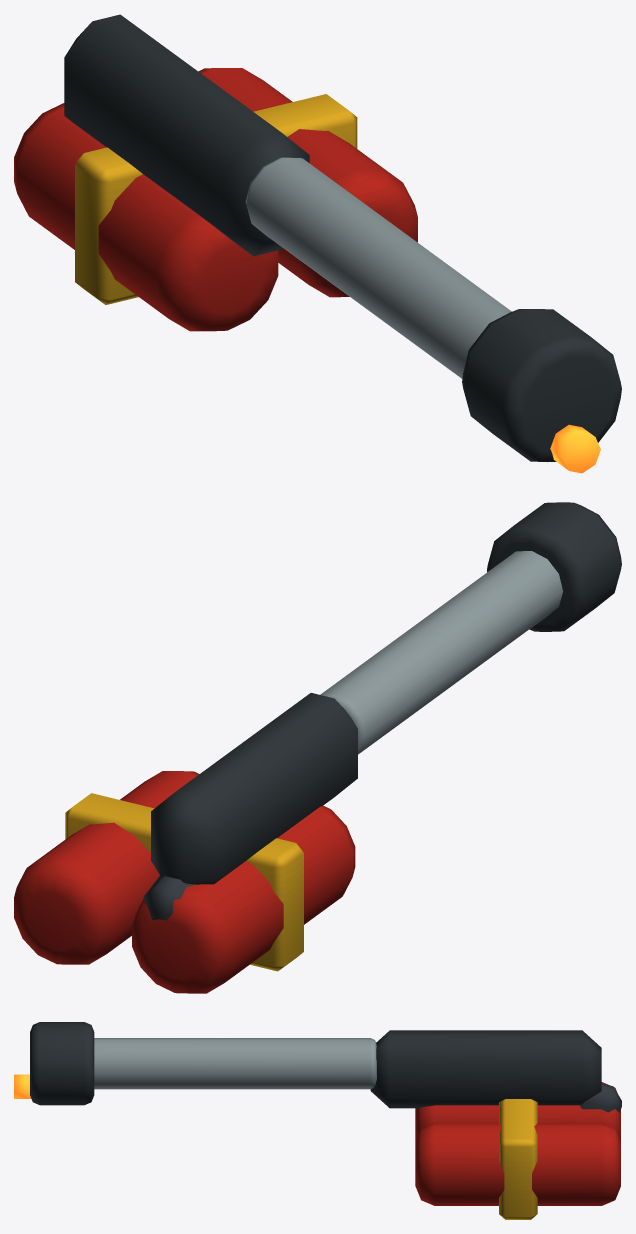
The model's file is weapon_flame.glb.
3 views of the same model, one above another, from view 1: azimuth 30°, elevation 25°; view 2: azimuth 150°, elevation 25°; view 3: azimuth 270°, elevation 25° (orthographic). The views are drawn at different scales.
Parts seen in each view (by area): view 1: Igniter body, Fuel cylinder, Flame tube, Nozzle shroud, Hazard band, Fuel cylinder.001, Pilot flame; view 2: Igniter body, Fuel cylinder, Flame tube, Fuel cylinder.001, Nozzle shroud, Hazard band, Pistol grip.007; view 3: Igniter body, Flame tube, Fuel cylinder.001, Nozzle shroud, Hazard band, Fuel cylinder, Pistol grip.007, Pilot flame.
Boxes of the visible parts, x1,y1,x2,y2 form: Igniter body: [64, 14, 309, 256]; Fuel cylinder: [14, 103, 278, 331]; Flame tube: [245, 157, 511, 378]; Nozzle shroud: [462, 309, 621, 462]; Hazard band: [75, 94, 357, 304]; Fuel cylinder.001: [198, 68, 417, 297]; Pilot flame: [550, 424, 600, 473]; Igniter body: [151, 693, 357, 884]; Fuel cylinder: [132, 805, 355, 993]; Flame tube: [320, 551, 562, 754]; Fuel cylinder.001: [14, 771, 199, 964]; Nozzle shroud: [487, 502, 621, 631]; Hazard band: [65, 793, 303, 971]; Pistol grip.007: [143, 875, 195, 920]; Igniter body: [370, 1030, 601, 1108]; Flame tube: [94, 1038, 376, 1089]; Fuel cylinder.001: [415, 1122, 620, 1205]; Nozzle shroud: [30, 1022, 94, 1105]; Hazard band: [499, 1099, 537, 1219]; Fuel cylinder: [415, 1082, 620, 1141]; Pistol grip.007: [580, 1083, 621, 1112]; Pilot flame: [14, 1074, 31, 1098].
Size of the model in its own units: 0.28 by 0.2427 by 0.9465.
Materials: 6 (5 with a texture image).
